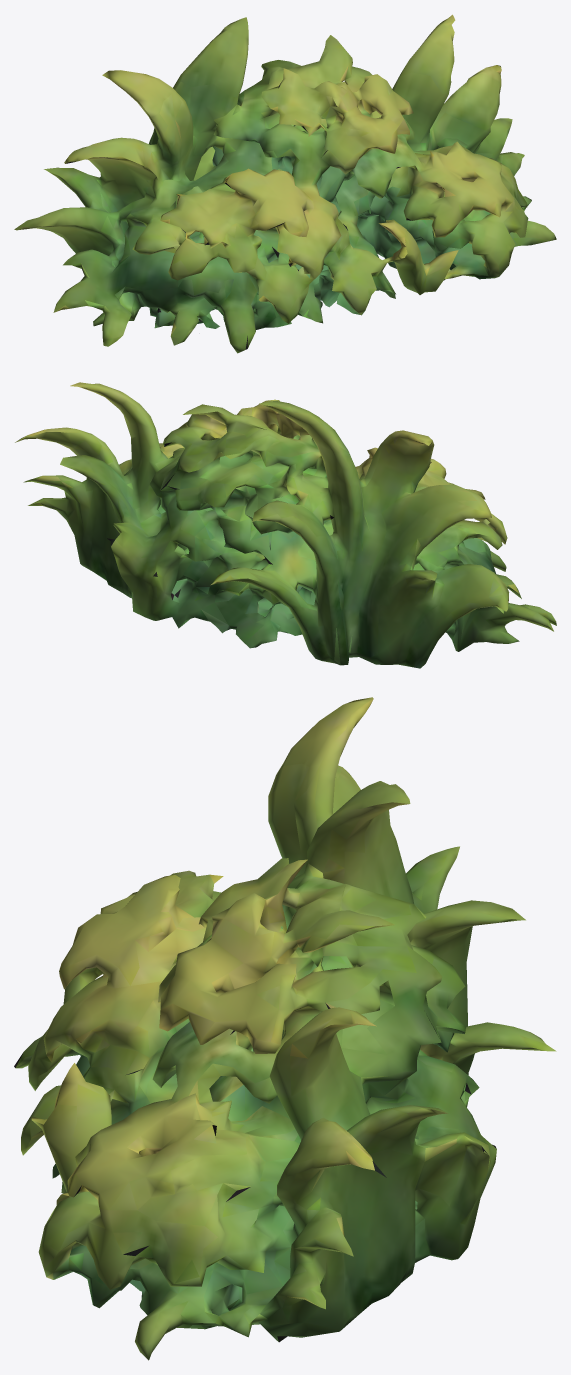
Rendered from PlantClump.glb.
The picture shows the model from 3 angles, top to bottom: view 1: azimuth 30°, elevation 25°; view 2: azimuth 150°, elevation 25°; view 3: azimuth 270°, elevation 25°; orthographic projection. The views are drawn at different scales.
Parts seen in each view (by area): view 1: PlantClump; view 2: PlantClump; view 3: PlantClump.
Part boxes in pixels (left/top/right/bottom): PlantClump: left=14, top=14, right=556, bottom=353; PlantClump: left=15, top=382, right=556, bottom=668; PlantClump: left=14, top=697, right=556, bottom=1360.
Size of the model in its own units: 1.42 by 0.6221 by 0.8119.
Materials: 1 (1 with a texture image).
